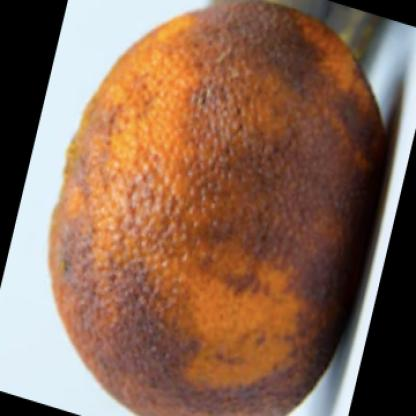rotten: (48, 2, 388, 416)
